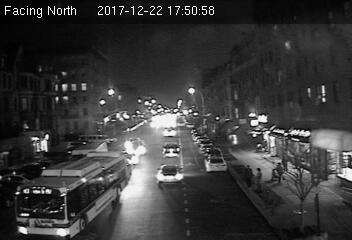bus: (11, 150, 132, 238)
car: (155, 164, 184, 184), (205, 155, 227, 173), (126, 139, 148, 154), (161, 142, 181, 158), (161, 127, 176, 137)
pedestrian: (254, 166, 264, 193)
